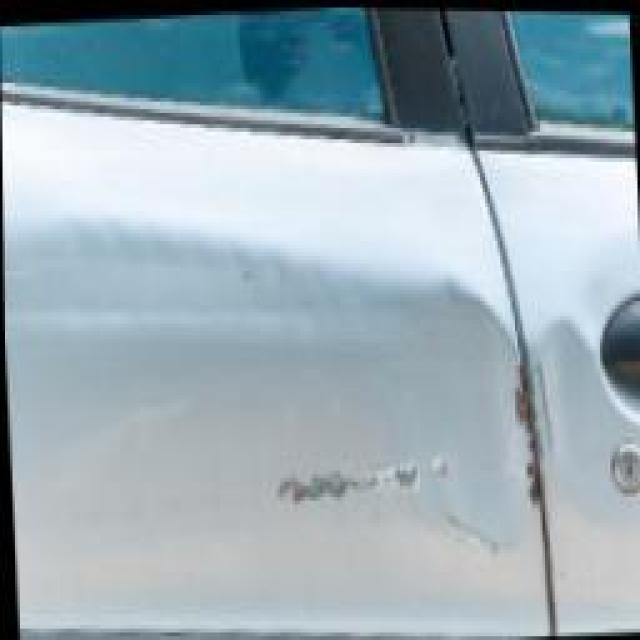Door: (215, 200, 548, 640)
